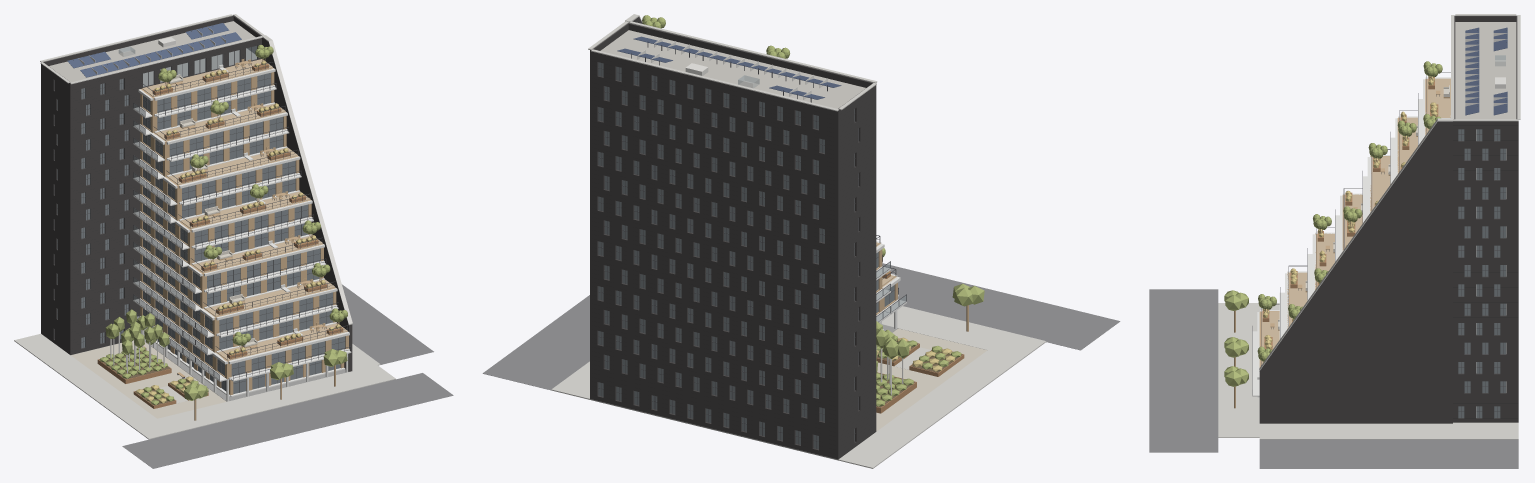
File: clay-terraced-stepped-tower-clay-v003.glb
3 renders of one model, left to right at view 1: azimuth 30°, elevation 25°; view 2: azimuth 150°, elevation 25°; view 3: azimuth 270°, elevation 25°, orthographic. The views are drawn at different scales.
Visible parts, largest first — view 1: CLAY_WALL, CLAY_GLASS, CLAY_TRIM, CLAY_WHITE, CLAY_TIMBER, CLAY_ASPHALT, CLAY_CONCRETE, CLAY_HARDWARE, CLAY_DECK, CLAY_PLANTING, CLAY_SAND, CLAY_CORTEN (+7 smaller); view 2: CLAY_WALL, CLAY_GLASS, CLAY_TRIM, CLAY_ASPHALT, CLAY_CONCRETE, CLAY_GRAVEL, CLAY_PLANTING, CLAY_SAND, CLAY_SOLAR, CLAY_PALE, CLAY_WHITE, CLAY_CORTEN; view 3: CLAY_WALL, CLAY_ASPHALT, CLAY_CONCRETE, CLAY_GRAVEL, CLAY_TRIM, CLAY_GLASS, CLAY_DECK, CLAY_WHITE, CLAY_PLANTING, CLAY_SOLAR, CLAY_TIMBER, CLAY_HARDWARE (+4 smaller).
Boxes of the visible parts, x1,y1,x2,y2 form: CLAY_WALL: [41, 15, 352, 371]; CLAY_GLASS: [54, 46, 345, 393]; CLAY_TRIM: [54, 45, 345, 393]; CLAY_WHITE: [133, 64, 351, 401]; CLAY_TIMBER: [140, 58, 348, 420]; CLAY_ASPHALT: [122, 284, 453, 468]; CLAY_CONCRETE: [14, 14, 395, 439]; CLAY_HARDWARE: [73, 28, 351, 380]; CLAY_DECK: [142, 59, 347, 360]; CLAY_PLANTING: [100, 44, 347, 404]; CLAY_SAND: [71, 340, 226, 418]; CLAY_CORTEN: [97, 63, 343, 408]; CLAY_WALL: [590, 17, 876, 459]; CLAY_GLASS: [598, 62, 906, 449]; CLAY_TRIM: [598, 62, 894, 449]; CLAY_ASPHALT: [482, 263, 1120, 390]; CLAY_CONCRETE: [551, 14, 1046, 468]; CLAY_GRAVEL: [600, 30, 865, 108]; CLAY_PLANTING: [642, 15, 984, 406]; CLAY_SAND: [876, 328, 987, 431]; CLAY_SOLAR: [617, 36, 841, 99]; CLAY_PALE: [637, 38, 827, 99]; CLAY_WHITE: [876, 241, 906, 330]; CLAY_CORTEN: [876, 271, 964, 413]; CLAY_WALL: [1259, 15, 1518, 423]; CLAY_ASPHALT: [1149, 289, 1518, 468]; CLAY_CONCRETE: [1218, 14, 1520, 439]; CLAY_GRAVEL: [1455, 22, 1516, 119]; CLAY_TRIM: [1271, 95, 1506, 417]; CLAY_GLASS: [1458, 55, 1506, 417]; CLAY_DECK: [1262, 78, 1450, 364]; CLAY_WHITE: [1252, 77, 1450, 397]; CLAY_PLANTING: [1224, 61, 1442, 386]; CLAY_SOLAR: [1465, 27, 1507, 115]; CLAY_TIMBER: [1234, 76, 1449, 408]; CLAY_HARDWARE: [1252, 30, 1506, 395].
Bounding box in the file's own units: 61.6 × 48.61 × 53.79.
